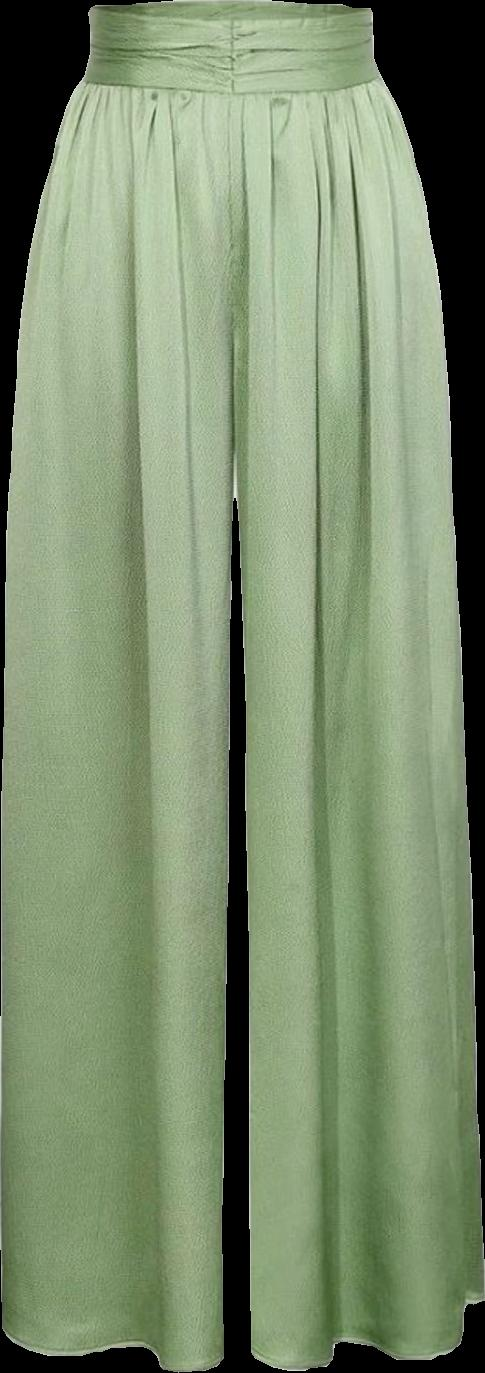Hemline: (248, 1294, 484, 1372), (0, 1320, 236, 1372)
Pantleg: (226, 0, 484, 1368), (1, 0, 232, 1369)
Waistline: (78, 64, 384, 102), (85, 3, 368, 31)
